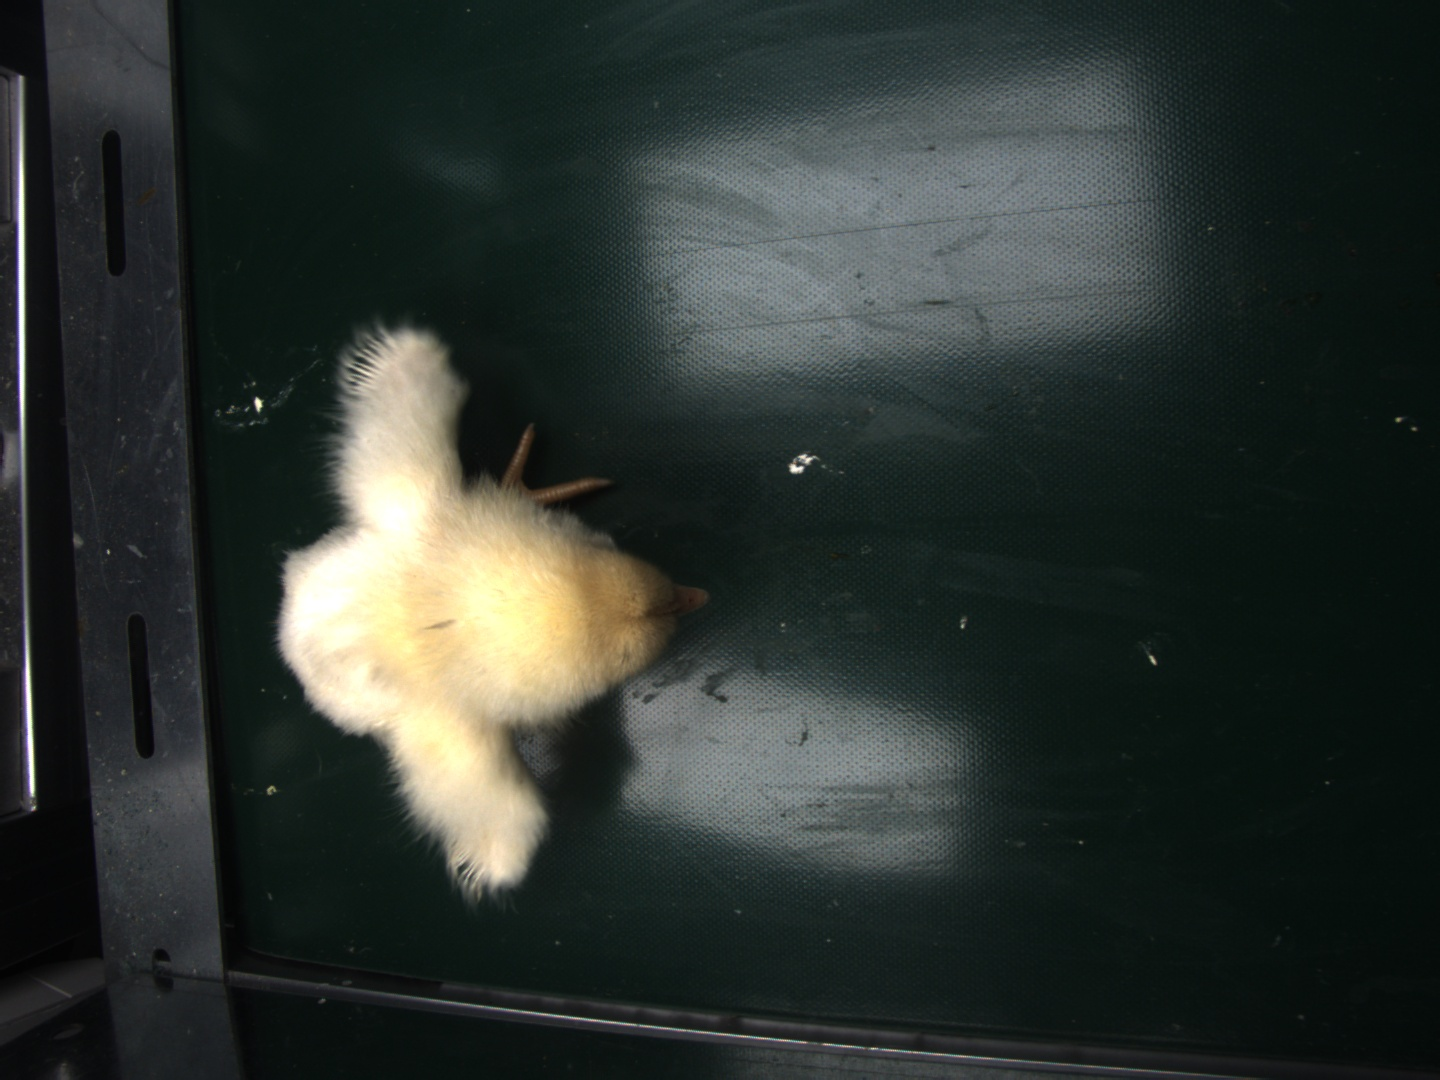male: (345, 334, 398, 396)
